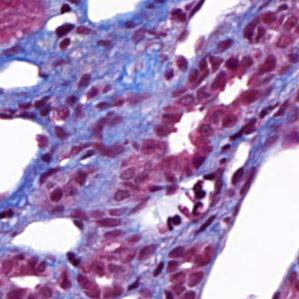inflammation: (183, 169, 227, 217), (204, 39, 249, 77)
